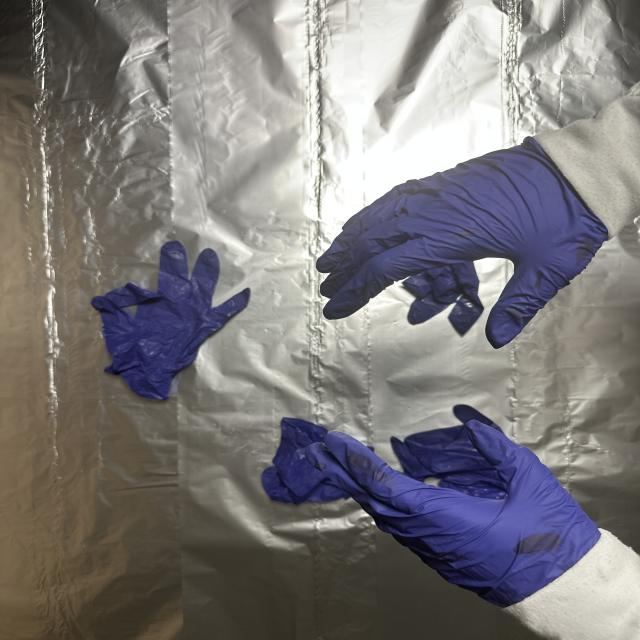gloves_contaminated: (317, 139, 607, 348), (308, 420, 597, 606)
